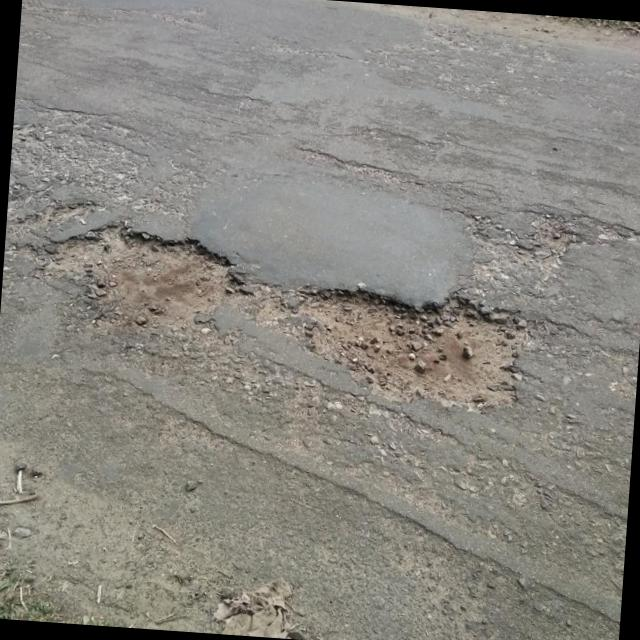Lubang: (260, 288, 526, 410), (35, 226, 253, 340)
